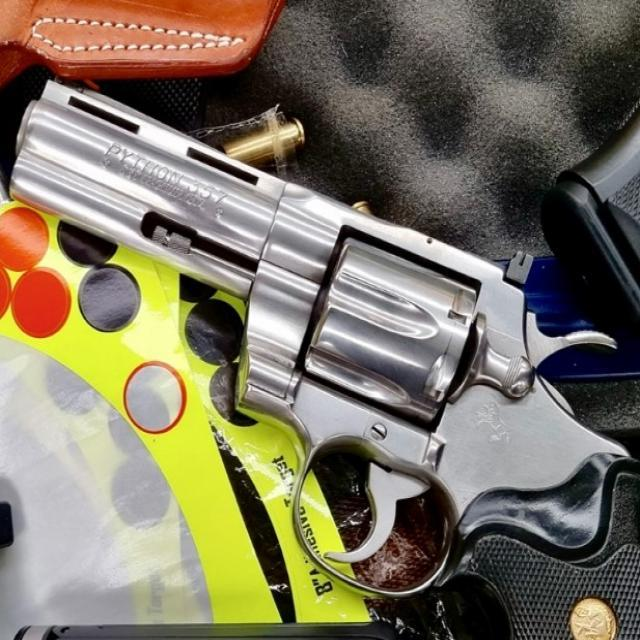revolver: (1, 66, 638, 588)
